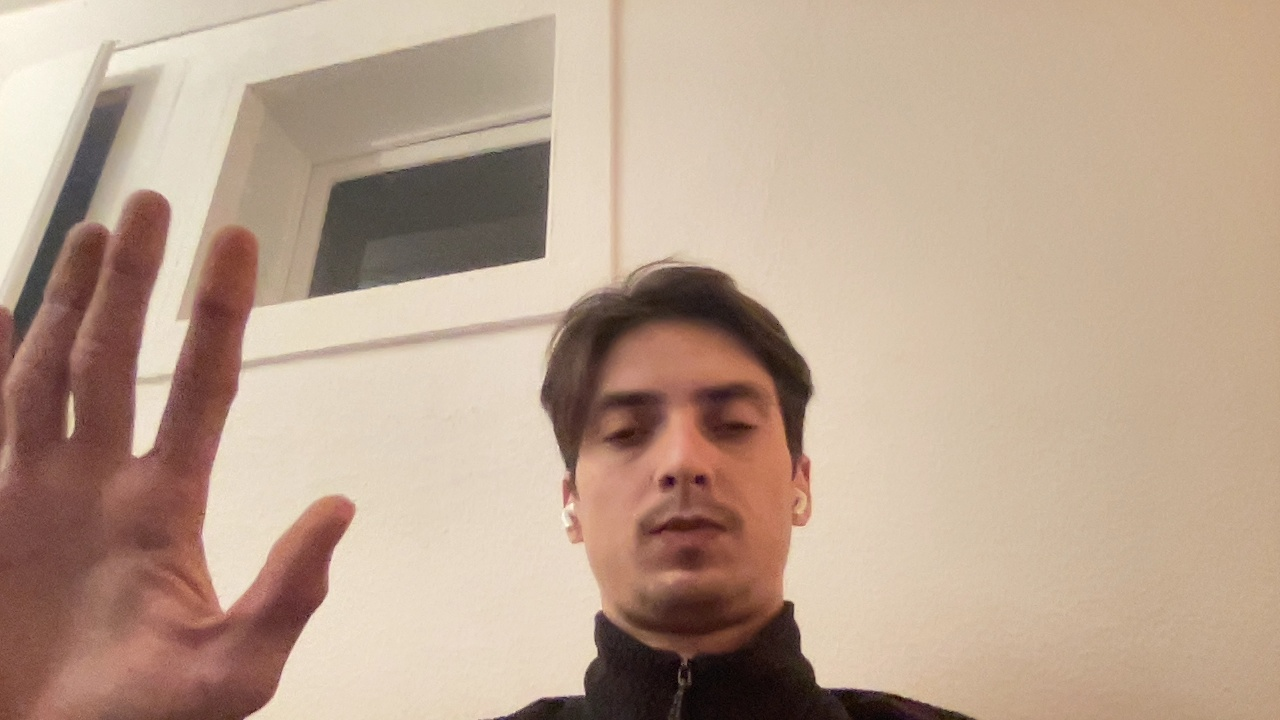Hello: (1, 104, 383, 702)
